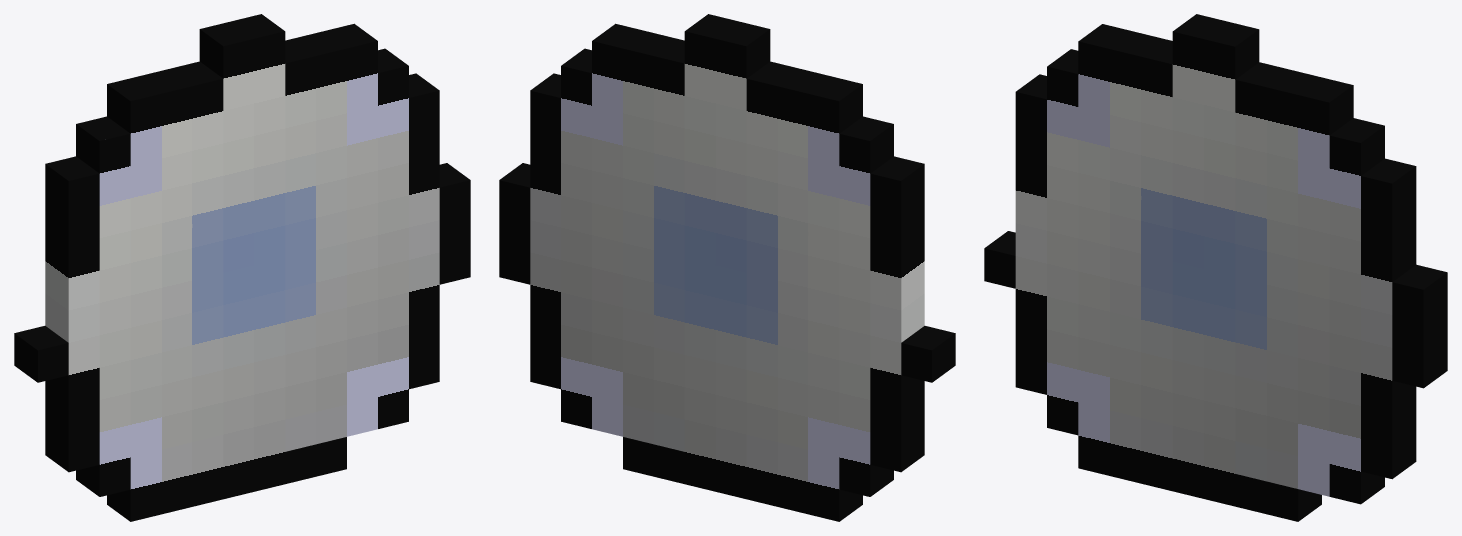
The model's file is Moonstone.glb.
The picture shows the model from 3 angles, left to right: view 1: azimuth 30°, elevation 25°; view 2: azimuth 150°, elevation 25°; view 3: azimuth 330°, elevation 25°; orthographic projection.
Parts seen in each view (by area): view 1: moonstone_1, moonstone_2, moonstone_0, moonstone_5, moonstone_3, moonstone_4, moonstone_6, moonstone_7, moonstone_8, moonstone_9; view 2: moonstone_1, moonstone_2, moonstone_0, moonstone_5, moonstone_3, moonstone_4, moonstone_6, moonstone_7, moonstone_8, moonstone_9; view 3: moonstone_1, moonstone_2, moonstone_0, moonstone_6, moonstone_4, moonstone_3, moonstone_5, moonstone_7, moonstone_9, moonstone_8.
Part boxes in pixels (<box>): moonstone_1: <box>107,61,223,521</box>; moonstone_2: <box>285,23,377,451</box>; moonstone_0: <box>199,14,285,499</box>; moonstone_5: <box>45,156,99,472</box>; moonstone_3: <box>76,116,130,496</box>; moonstone_4: <box>378,48,408,428</box>; moonstone_6: <box>409,73,439,389</box>; moonstone_7: <box>439,163,470,284</box>; moonstone_8: <box>14,326,68,382</box>; moonstone_9: <box>285,437,346,483</box>; moonstone_1: <box>746,61,862,521</box>; moonstone_2: <box>592,23,684,451</box>; moonstone_0: <box>684,14,770,499</box>; moonstone_5: <box>870,156,924,472</box>; moonstone_3: <box>839,116,893,496</box>; moonstone_4: <box>561,48,591,428</box>; moonstone_6: <box>530,73,560,389</box>; moonstone_7: <box>499,163,530,284</box>; moonstone_8: <box>901,326,955,382</box>; moonstone_9: <box>623,437,684,483</box>; moonstone_1: <box>1078,24,1172,491</box>; moonstone_2: <box>1235,62,1353,496</box>; moonstone_0: <box>1172,14,1259,506</box>; moonstone_6: <box>1361,158,1416,479</box>; moonstone_4: <box>1329,118,1384,504</box>; moonstone_3: <box>1047,49,1078,435</box>; moonstone_5: <box>1015,74,1046,394</box>; moonstone_7: <box>1392,264,1447,388</box>; moonstone_9: <box>1235,474,1321,521</box>; moonstone_8: <box>984,231,1015,288</box>.
Bounding box in the file's own units: 6.12 × 6.12 × 0.5781.
1 material, 1 textured.
